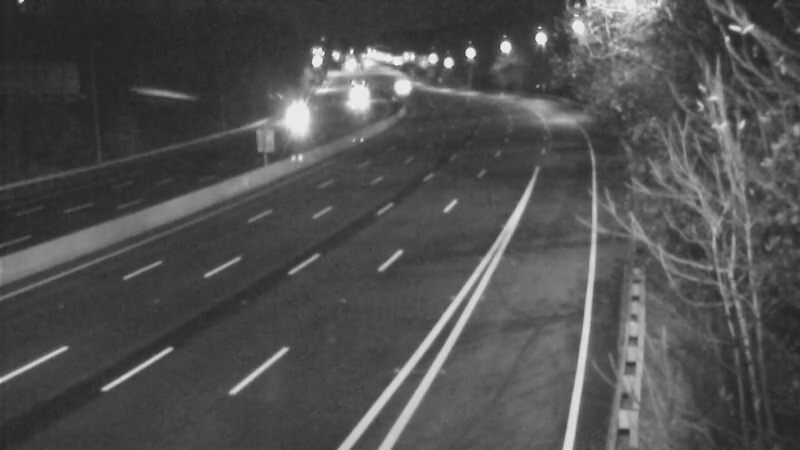vehicle: (374, 58, 424, 108), (269, 91, 319, 141), (331, 74, 381, 124)
